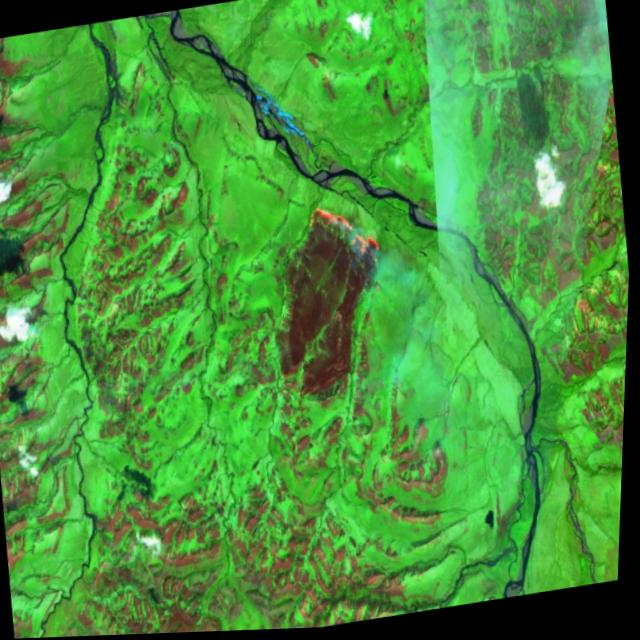fire: (253, 177, 406, 428)
